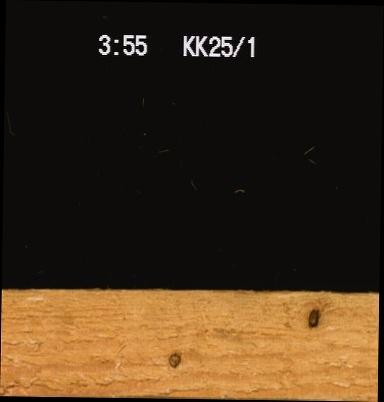dry_knot: (305, 305, 320, 328), (166, 349, 181, 368)
